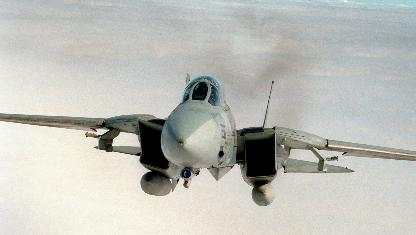EF2000: (0, 72, 416, 205)
